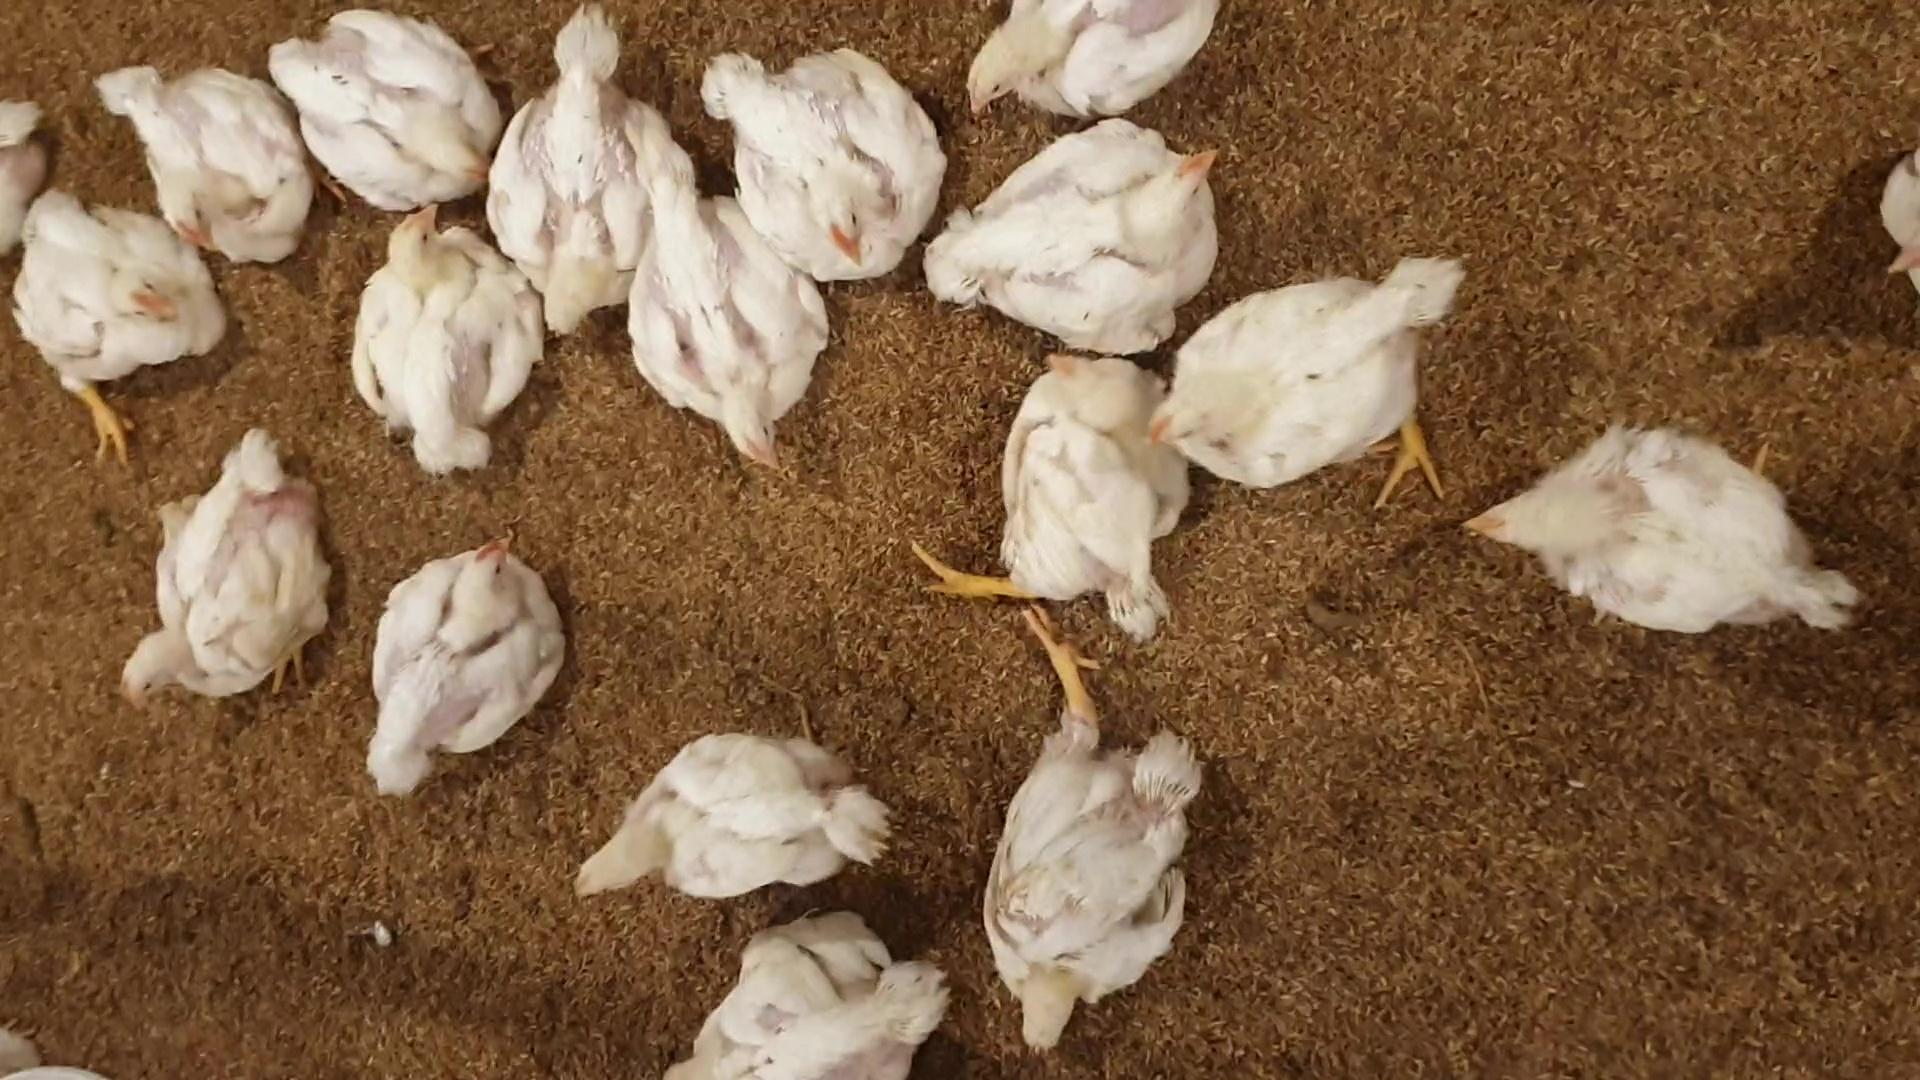Pollos: (1464, 418, 1847, 636), (570, 708, 872, 924), (123, 418, 328, 719), (986, 719, 1170, 1044), (363, 520, 570, 793), (633, 204, 837, 475), (1159, 272, 1437, 464), (516, 11, 675, 302), (1001, 342, 1191, 582), (360, 210, 539, 450), (992, 115, 1228, 295), (9, 189, 243, 363), (98, 67, 318, 241), (284, 15, 491, 199), (752, 44, 915, 273), (951, 0, 1153, 127)
